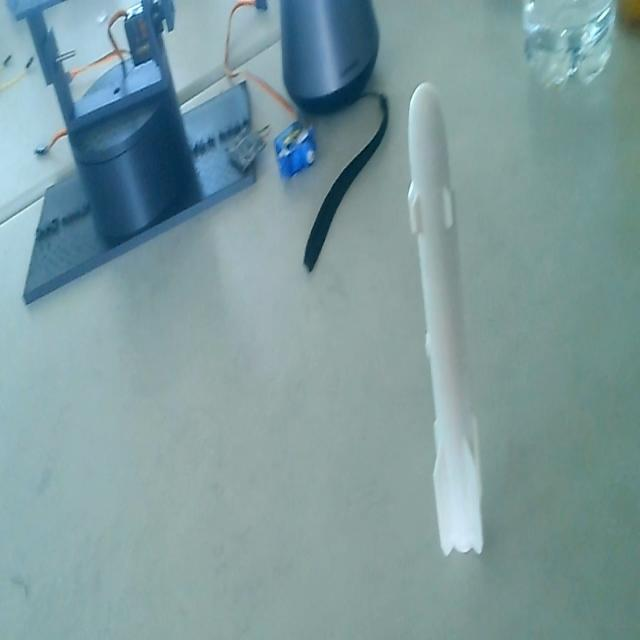Rocket: (406, 78, 486, 565)
